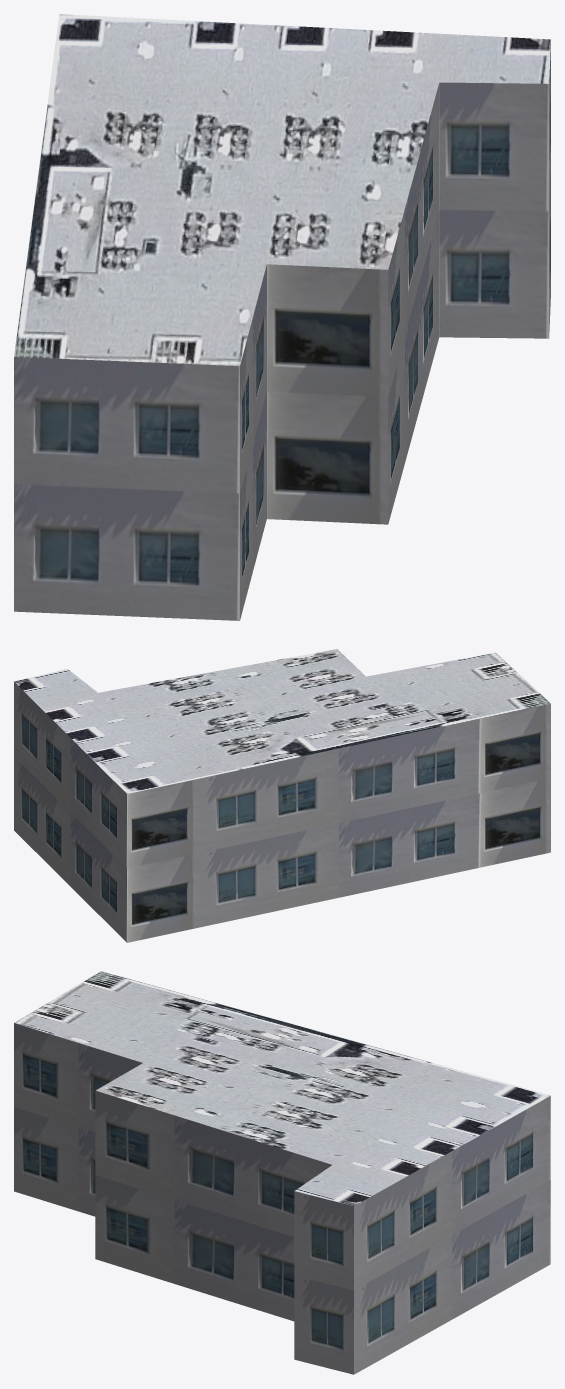
Rendered from ResTex__1893.fbx.
3 views of the same model, one above another, from view 1: azimuth 30°, elevation 25°; view 2: azimuth 150°, elevation 25°; view 3: azimuth 270°, elevation 25° (orthographic). The views are drawn at different scales.
Visible parts, largest first — view 1: CityEngineMaterial_10_m, CityEngineMaterial_8_m; view 2: CityEngineMaterial_10_m, CityEngineMaterial_8_m; view 3: CityEngineMaterial_10_m, CityEngineMaterial_8_m.
Part boxes in pixels (x1,y1,x2,y2): CityEngineMaterial_10_m: (14, 44, 550, 620); CityEngineMaterial_8_m: (14, 14, 550, 365); CityEngineMaterial_10_m: (14, 682, 550, 942); CityEngineMaterial_8_m: (14, 649, 550, 793); CityEngineMaterial_10_m: (14, 1023, 550, 1374); CityEngineMaterial_8_m: (14, 971, 550, 1205).
Bounding box in the file's own units: 17.94 × 6 × 17.32.
2 materials, 2 textured.
